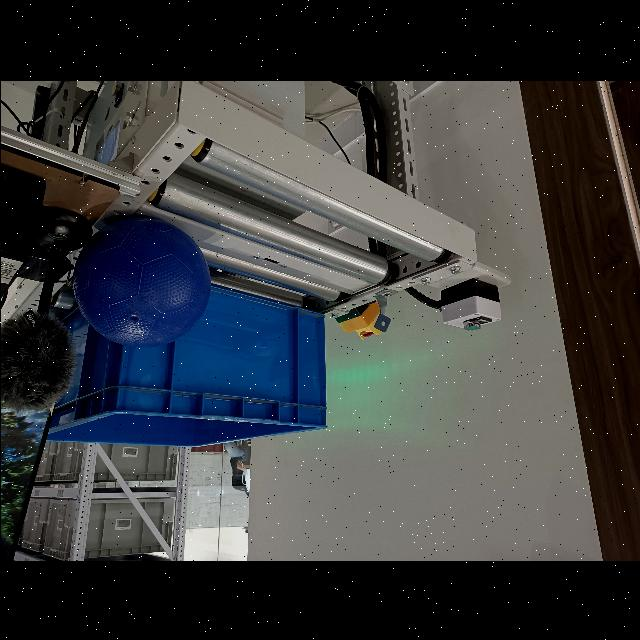B: (73, 215, 213, 345)
